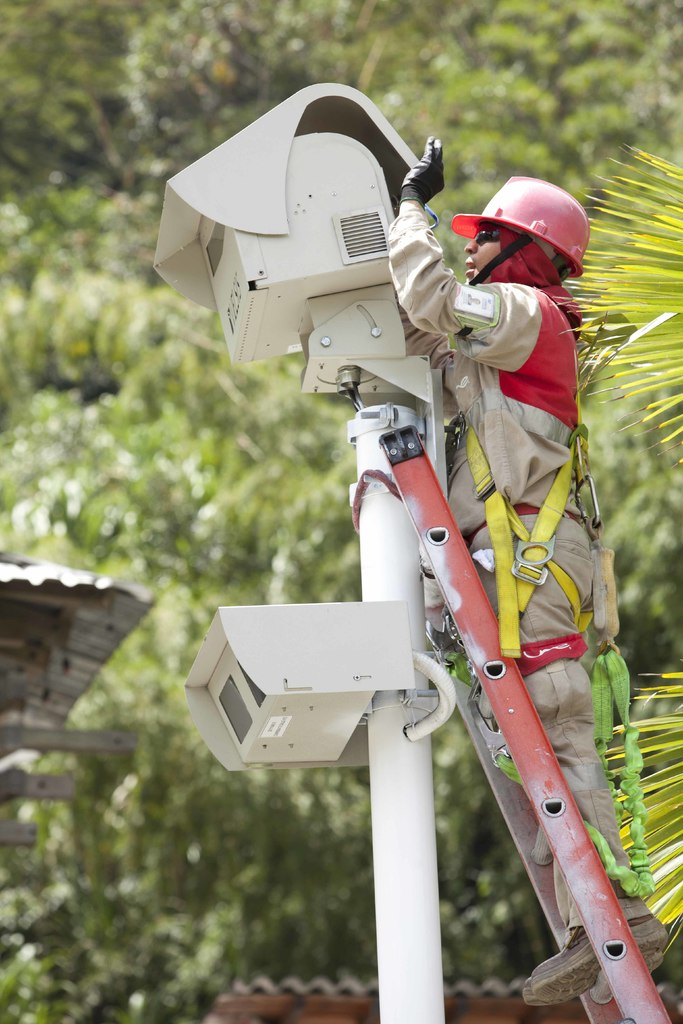Person: (388, 136, 669, 1005)
